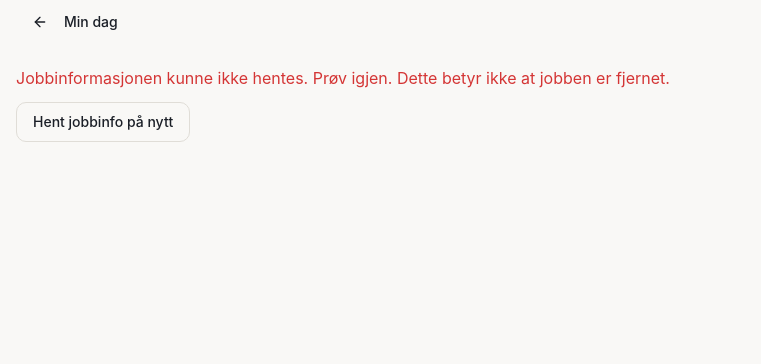
Scenario: Job deep-link session flow › transport exception settles and retry only re-reads same job
Expected: the message is shown, 16,66 -> 744,90
Click the button at (103, 122), box 16,102 -> 190,142
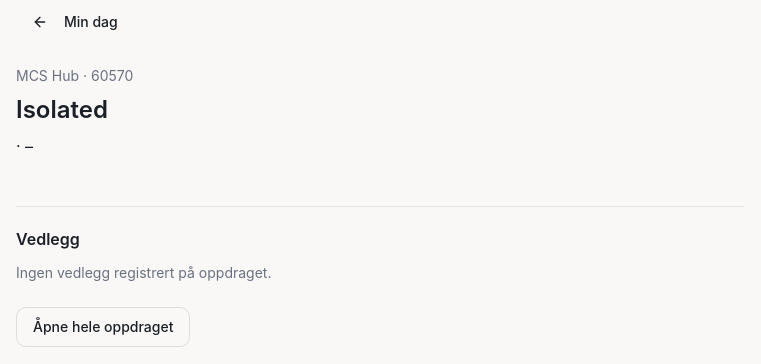
Expected: the message is gone
